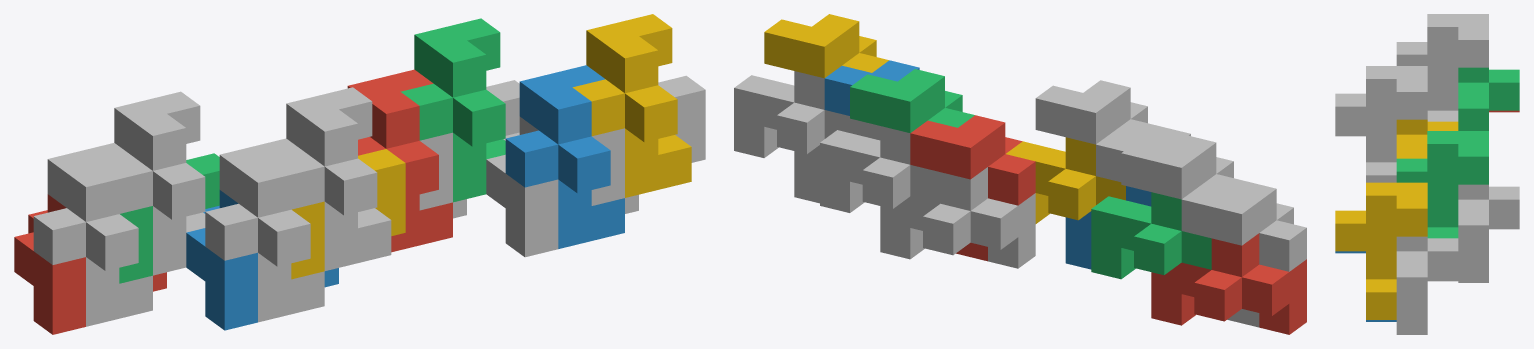
The model's file is tiling.obj.
The picture shows the model from 3 angles, left to right: view 1: azimuth 30°, elevation 25°; view 2: azimuth 150°, elevation 25°; view 3: azimuth 270°, elevation 25°; orthographic projection. The views are drawn at different scales.
Visible parts, largest first — view 1: copy_2_domain_4, copy_2_domain_8, copy_2_domain_6, copy_2_domain_2, copy_2_domain_1, copy_2_domain_7, copy_2_domain_3, copy_2_domain_5, copy_1_domain_1, copy_1_domain_6, copy_1_domain_2, copy_1_domain_4 (+3 smaller); view 2: copy_1_domain_1, copy_1_domain_5, copy_1_domain_3, copy_1_domain_7, copy_2_domain_1, copy_1_domain_8, copy_2_domain_5, copy_2_domain_8, copy_2_domain_3, copy_2_domain_4, copy_2_domain_7, copy_1_domain_4 (+4 smaller); view 3: copy_2_domain_8, copy_2_domain_4, copy_2_domain_7, copy_2_domain_3, copy_1_domain_8, copy_1_domain_7, copy_1_domain_3, copy_1_domain_4, copy_1_domain_6, copy_1_domain_5, copy_2_domain_6.
Part boxes in pixels (bbox=[...]): copy_2_domain_4: bbox=[272, 87, 391, 270]; copy_2_domain_8: bbox=[572, 14, 691, 197]; copy_2_domain_6: bbox=[505, 65, 624, 248]; copy_2_domain_2: bbox=[205, 138, 324, 322]; copy_2_domain_1: bbox=[33, 143, 152, 326]; copy_2_domain_7: bbox=[400, 18, 505, 202]; copy_2_domain_3: bbox=[100, 91, 205, 275]; copy_2_domain_5: bbox=[347, 69, 452, 252]; copy_1_domain_1: bbox=[14, 194, 166, 334]; copy_1_domain_6: bbox=[486, 116, 638, 257]; copy_1_domain_2: bbox=[186, 190, 338, 330]; copy_1_domain_4: bbox=[291, 149, 405, 279]; copy_1_domain_1: bbox=[1151, 233, 1306, 334]; copy_1_domain_5: bbox=[880, 167, 1035, 268]; copy_1_domain_3: bbox=[1091, 192, 1211, 279]; copy_1_domain_7: bbox=[820, 126, 940, 212]; copy_2_domain_1: bbox=[1181, 181, 1306, 327]; copy_1_domain_8: bbox=[734, 71, 854, 157]; copy_2_domain_5: bbox=[910, 115, 1035, 261]; copy_2_domain_8: bbox=[764, 14, 888, 78]; copy_2_domain_3: bbox=[1121, 135, 1245, 199]; copy_2_domain_4: bbox=[1035, 80, 1160, 144]; copy_2_domain_7: bbox=[850, 69, 974, 132]; copy_1_domain_4: bbox=[1006, 137, 1125, 223]; copy_2_domain_8: bbox=[1335, 182, 1427, 319]; copy_2_domain_4: bbox=[1335, 66, 1427, 182]; copy_2_domain_7: bbox=[1396, 131, 1488, 238]; copy_2_domain_3: bbox=[1396, 14, 1488, 121]; copy_1_domain_8: bbox=[1396, 236, 1458, 332]; copy_1_domain_7: bbox=[1458, 184, 1519, 281]; copy_1_domain_3: bbox=[1458, 67, 1519, 130]; copy_1_domain_4: bbox=[1396, 119, 1458, 158]; copy_1_domain_6: bbox=[1396, 279, 1458, 334]; copy_1_domain_5: bbox=[1458, 227, 1519, 282]; copy_2_domain_6: bbox=[1335, 251, 1396, 321].
Bounding box in the file's own units: 19 × 5 × 6.
